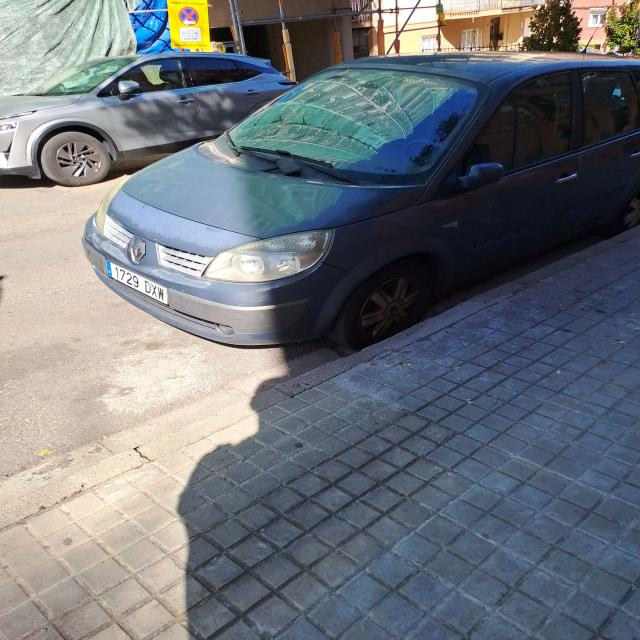license_plate-34Td: (106, 261, 168, 305)
